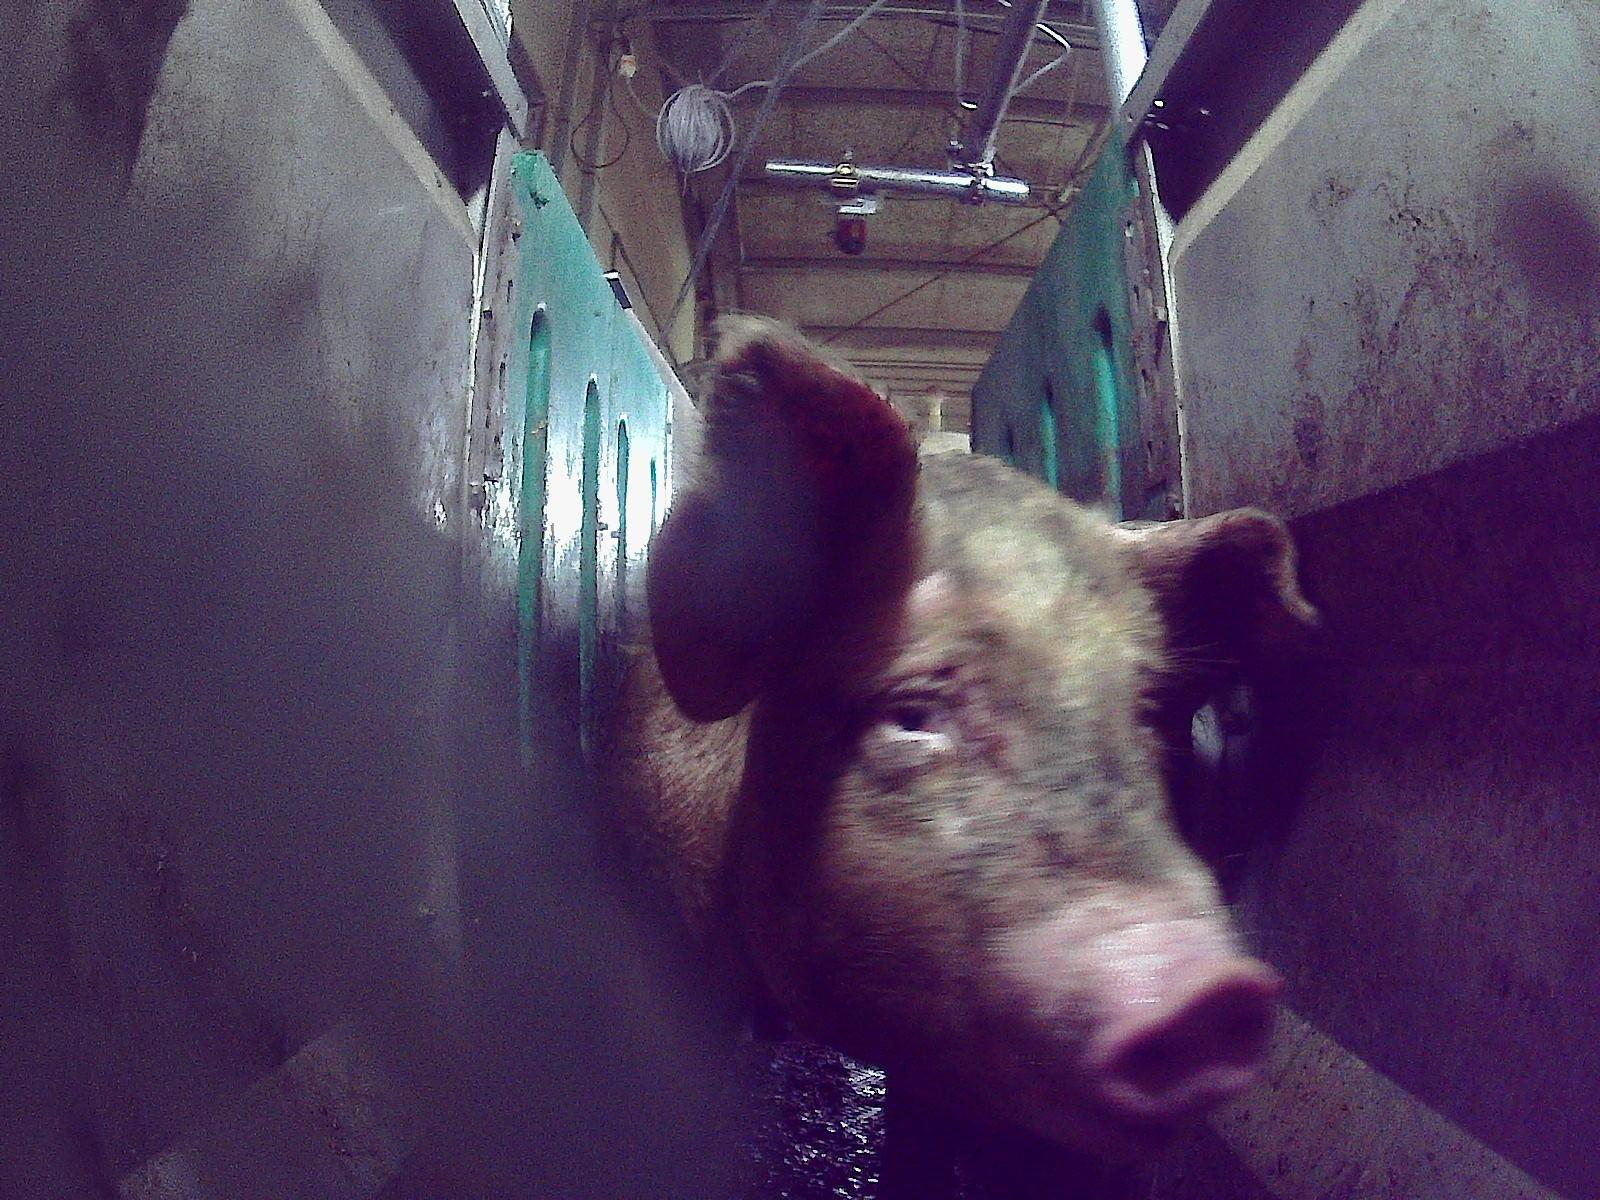Face: (742, 488, 1281, 1153)
